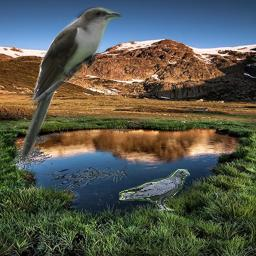Crow: (119, 169, 190, 211)
Cuckoo: (17, 5, 122, 162)
